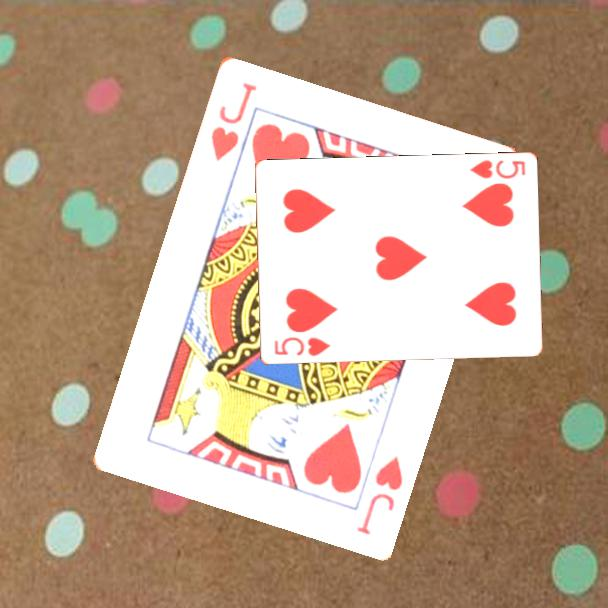h05: (466, 157, 528, 182), (271, 334, 332, 359)
h11: (353, 452, 406, 537), (207, 78, 259, 164)
